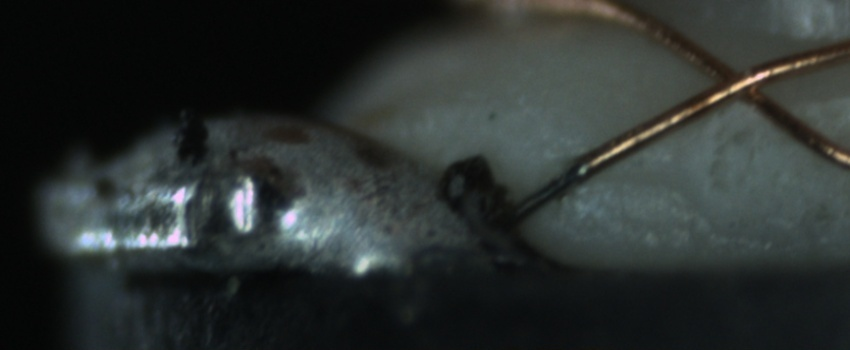CL: (688, 46, 790, 118)
DL: (565, 144, 693, 195)
TS: (494, 158, 592, 227)
TTCW: (491, 137, 617, 232)
